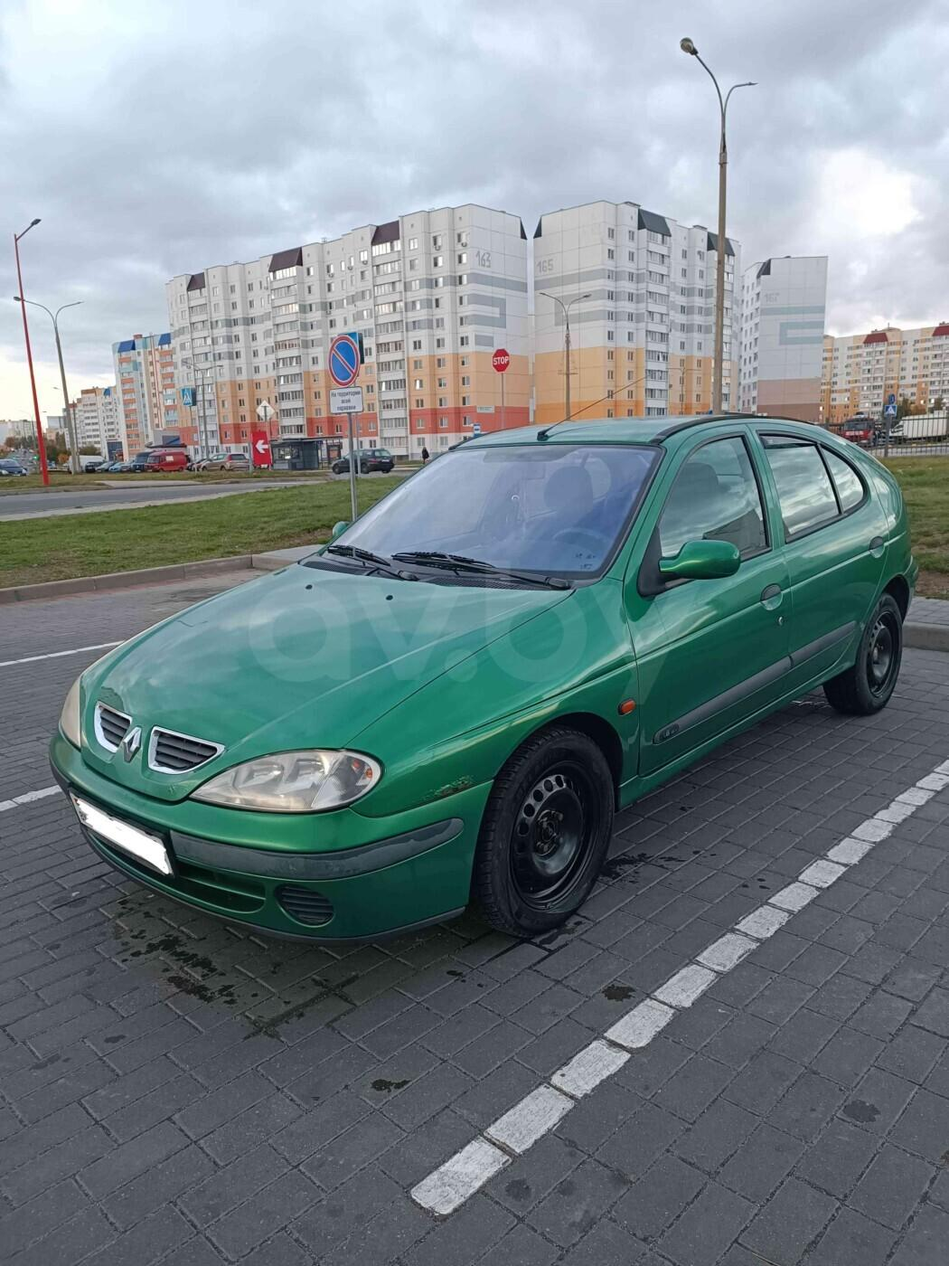Megane_1999-2003: (45, 409, 918, 942)
